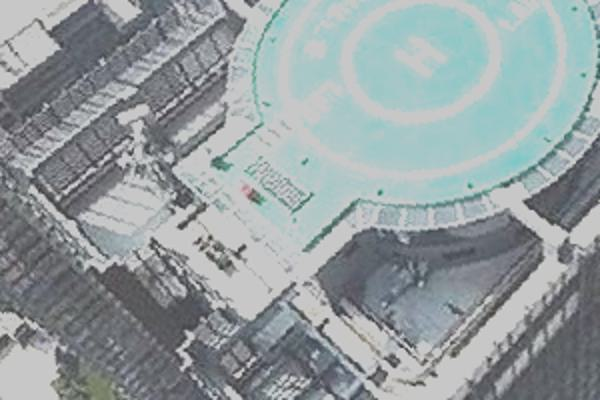Apron: (340, 1, 499, 127)
